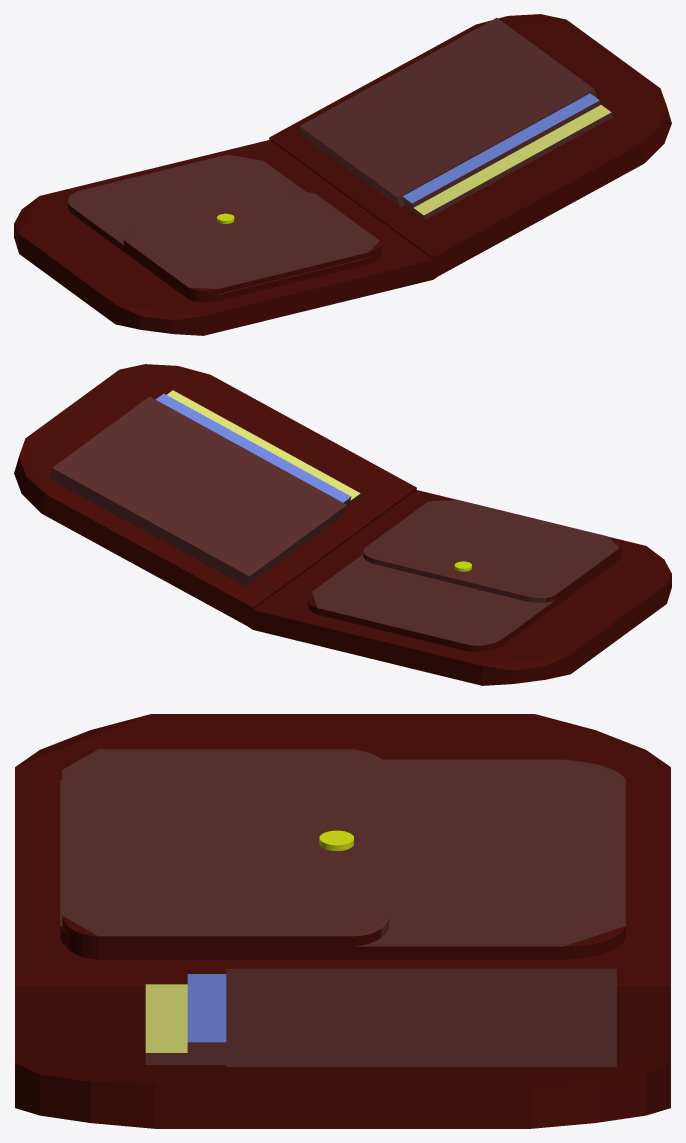
3 renders of one model, top to bottom at view 1: azimuth 30°, elevation 25°; view 2: azimuth 150°, elevation 25°; view 3: azimuth 270°, elevation 25°, orthographic. The views are drawn at different scales.
Visible parts, largest first — view 1: 立方体.004; view 2: 立方体.004; view 3: 立方体.004.
Boxes of the visible parts, x1,y1,x2,y2 form: 立方体.004: (14, 14, 671, 335); 立方体.004: (14, 364, 671, 685); 立方体.004: (15, 714, 670, 1128).
Size of the model in its own units: 389 by 68.54 by 200.
